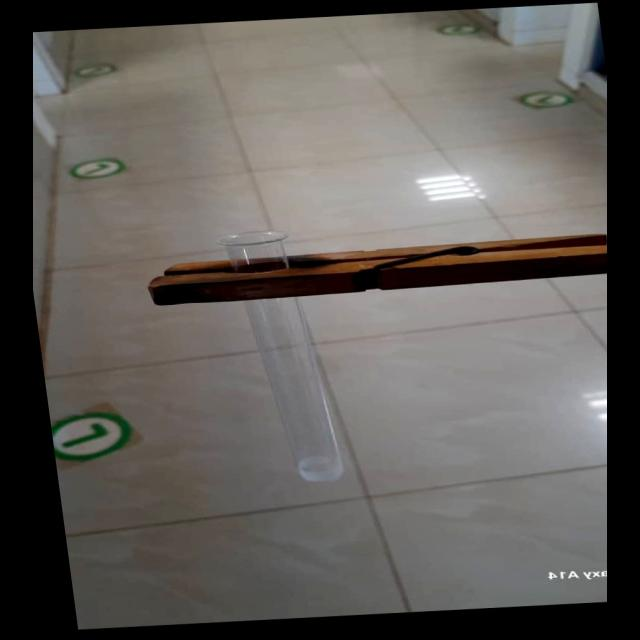Test Tube Holder: (126, 226, 607, 307)
